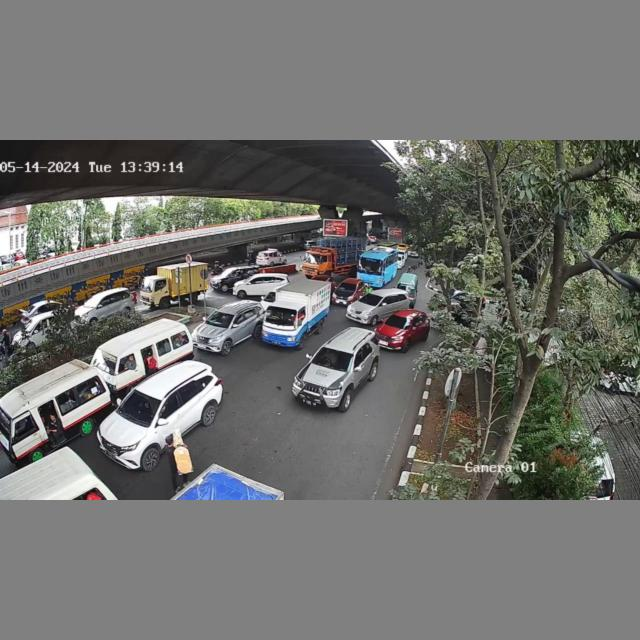windshield: (114, 391, 164, 422), (314, 348, 354, 370), (263, 307, 307, 325), (92, 349, 119, 373), (385, 313, 415, 330), (205, 309, 232, 327), (358, 289, 383, 308), (338, 284, 357, 292)
